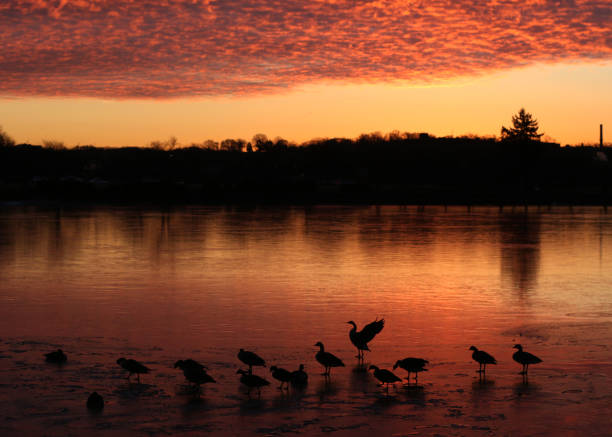goose: (344, 317, 385, 363), (509, 341, 545, 379), (174, 357, 216, 389), (111, 356, 152, 386), (313, 339, 346, 374), (391, 357, 435, 383), (467, 343, 498, 379), (236, 367, 272, 397), (366, 363, 399, 393), (234, 345, 267, 372), (81, 389, 108, 417), (268, 365, 294, 390), (292, 363, 312, 392), (41, 347, 71, 364)
